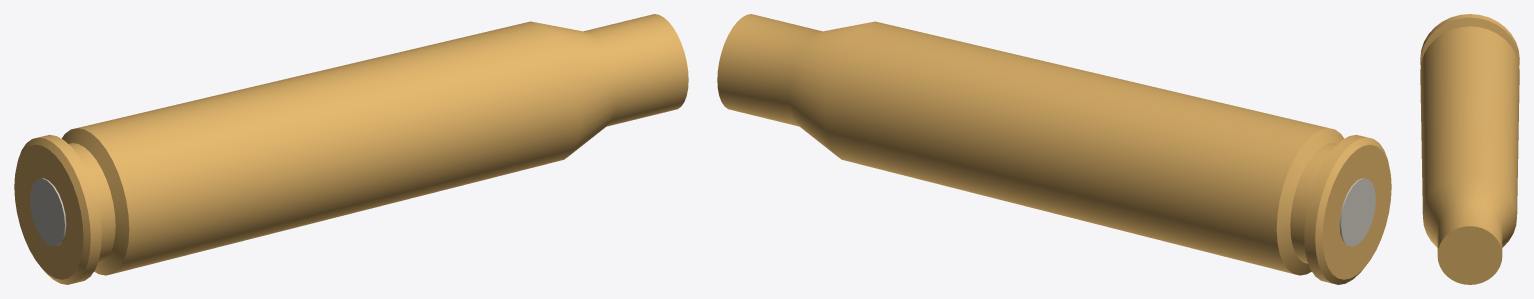
The model's file is estojo.obj.
3 views of the same model, side by side, from view 1: azimuth 30°, elevation 25°; view 2: azimuth 150°, elevation 25°; view 3: azimuth 270°, elevation 25° (orthographic). The views are drawn at different scales.
Size of the model in its own units: 0.1792 by 0.038 by 0.038.
